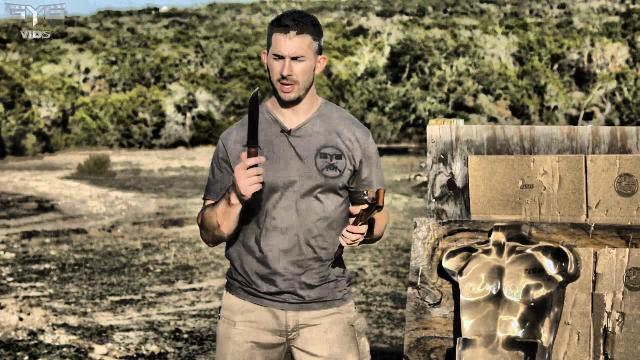knife: (230, 83, 266, 193)
